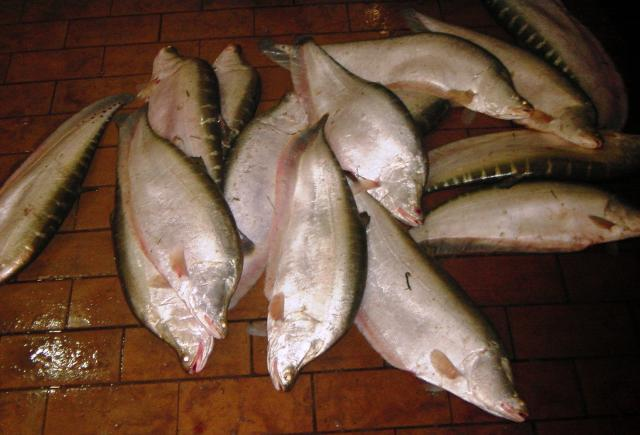Mulut: (175, 340, 222, 384), (494, 390, 536, 432), (396, 200, 432, 234), (509, 89, 538, 127), (571, 127, 609, 154), (150, 40, 187, 66), (215, 40, 251, 62)
Sirip Dada: (436, 78, 486, 120), (252, 368, 308, 402), (578, 204, 624, 244), (424, 343, 466, 385), (337, 171, 389, 202), (516, 102, 558, 136), (163, 243, 199, 282), (263, 290, 293, 330), (135, 77, 163, 110)
Sirip Punggung: (232, 226, 266, 268), (352, 202, 378, 249)
